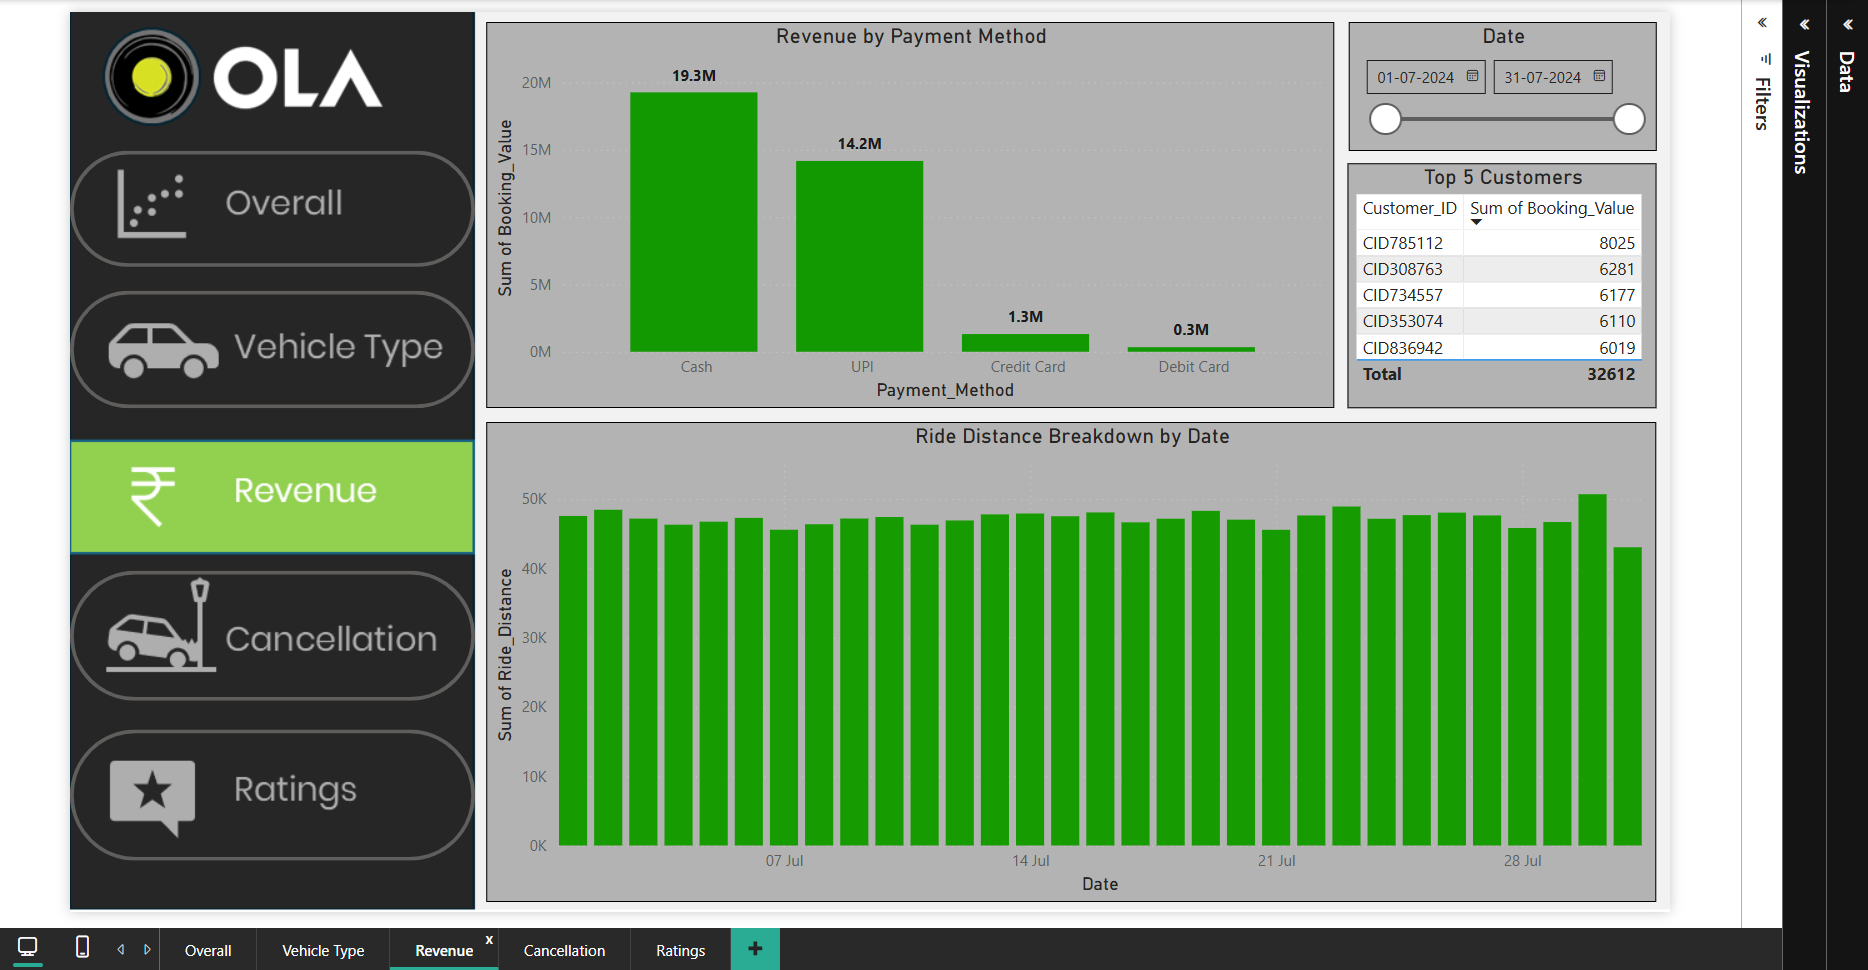

The page's visual inventory and layout, read from the dashboard file:
{"tool":"powerbi","page":{"name":"Revenue","canvas":[1280,720],"ordinal":2},"visuals":[{"type":"actionButton","box":[0,223.3,324.4,93.3],"z":0},{"type":"actionButton","box":[0,111.1,324.4,93.3],"z":1000},{"type":"actionButton","box":[0,446.7,324.4,104.4],"z":2000},{"type":"actionButton","box":[0,574.4,324.4,104.4],"z":3000},{"type":"columnChart","title":"Revenue by Payment Method","fields":{"Category":["Bookings-100000-Rows.Payment_Method"],"Y":["Sum(Bookings-100000-Rows.Booking_Value)"]},"box":[333.3,7.8,677.8,308.9],"z":4000},{"type":"columnChart","title":"Ride Distance Breakdown by Date","fields":{"Y":["Sum(Bookings-100000-Rows.Ride_Distance)"],"Category":["Bookings-100000-Rows.Date"]},"box":[333.3,327.8,935.6,384.4],"z":5000},{"type":"slicer","title":"Date","fields":{"Values":["Bookings-100000-Rows.Date"]},"box":[1022.5,7.5,246.2,103.8],"z":6000},{"type":"tableEx","title":"Top 5 Customers","fields":{"Values":["Bookings-100000-Rows.Customer_ID","Sum(Bookings-100000-Rows.Booking_Value)"]},"box":[1022.2,121.1,246.7,195.6],"z":7000}]}

Visuals, with their boxes on the page's 1280x720 design canvas (x1, y1, x2, y2). These are canvas units, not pixel positions in the 1868x970 screenshot, which may show the page scaled, cropped or inside an application window:
actionButton: [x1=0, y1=223, x2=324, y2=317]
actionButton: [x1=0, y1=111, x2=324, y2=204]
actionButton: [x1=0, y1=447, x2=324, y2=551]
actionButton: [x1=0, y1=574, x2=324, y2=679]
"Revenue by Payment Method" columnChart: [x1=333, y1=8, x2=1011, y2=317]
"Ride Distance Breakdown by Date" columnChart: [x1=333, y1=328, x2=1269, y2=712]
"Date" slicer: [x1=1022, y1=8, x2=1269, y2=111]
"Top 5 Customers" tableEx: [x1=1022, y1=121, x2=1269, y2=317]
